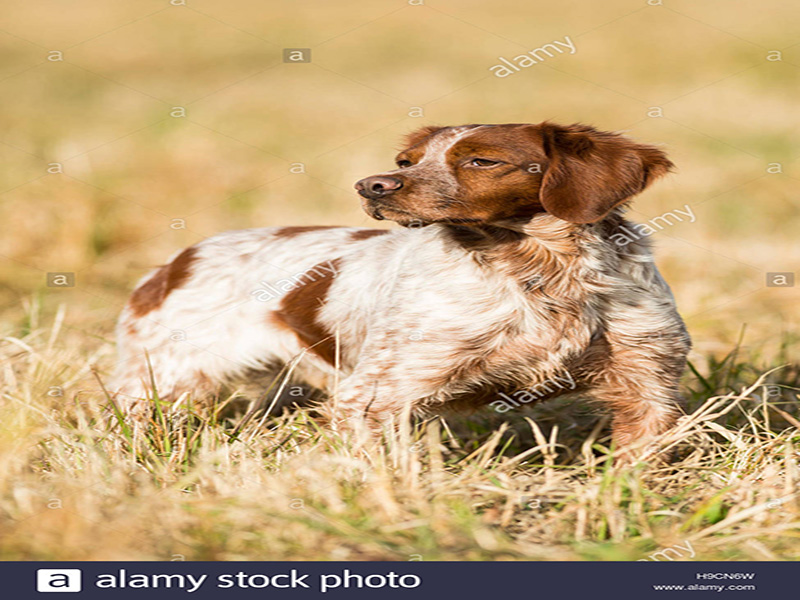cane da caccia: (96, 131, 687, 446)
